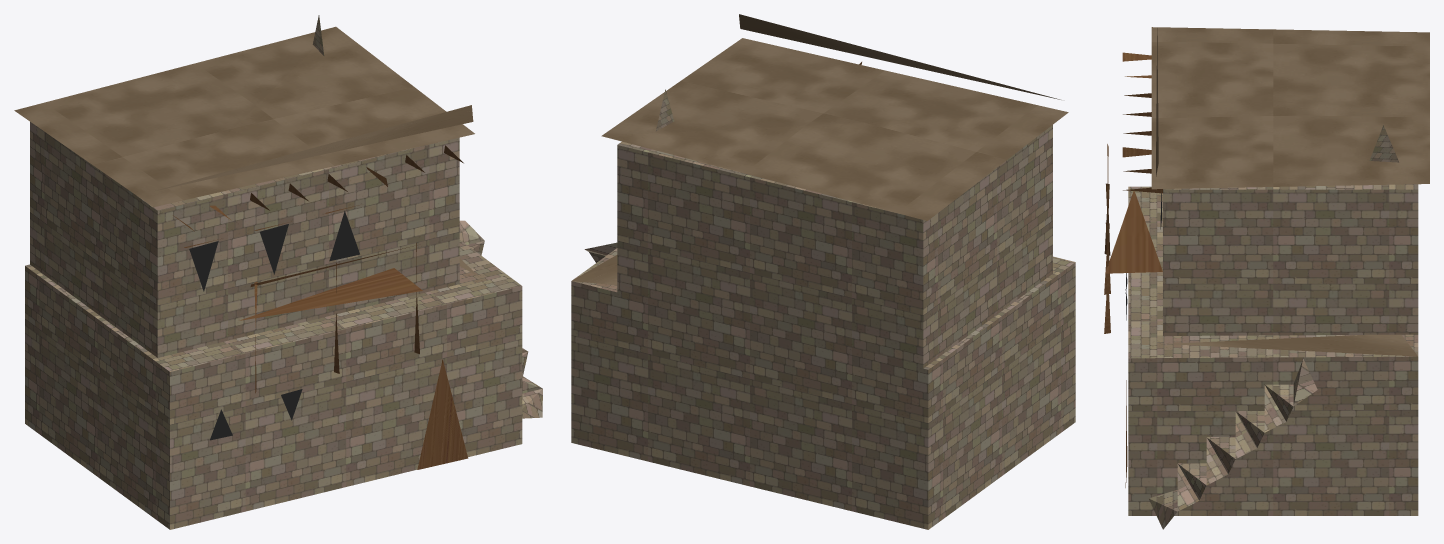
Rendered from house_saklya_2f_lod2.glb.
3 views of the same model, side by side, from view 1: azimuth 30°, elevation 25°; view 2: azimuth 150°, elevation 25°; view 3: azimuth 270°, elevation 25° (orthographic).
Parts seen in each view (by area): view 1: m; view 2: m; view 3: m.
Boxes of the visible parts, box(x1,y1,x2,y2) form: m: box(14, 15, 542, 529); m: box(571, 14, 1075, 529); m: box(1104, 27, 1429, 529).
Bounding box in the file's own units: 8 × 6.74 × 5.62.
Materials: 4 (3 with a texture image).
